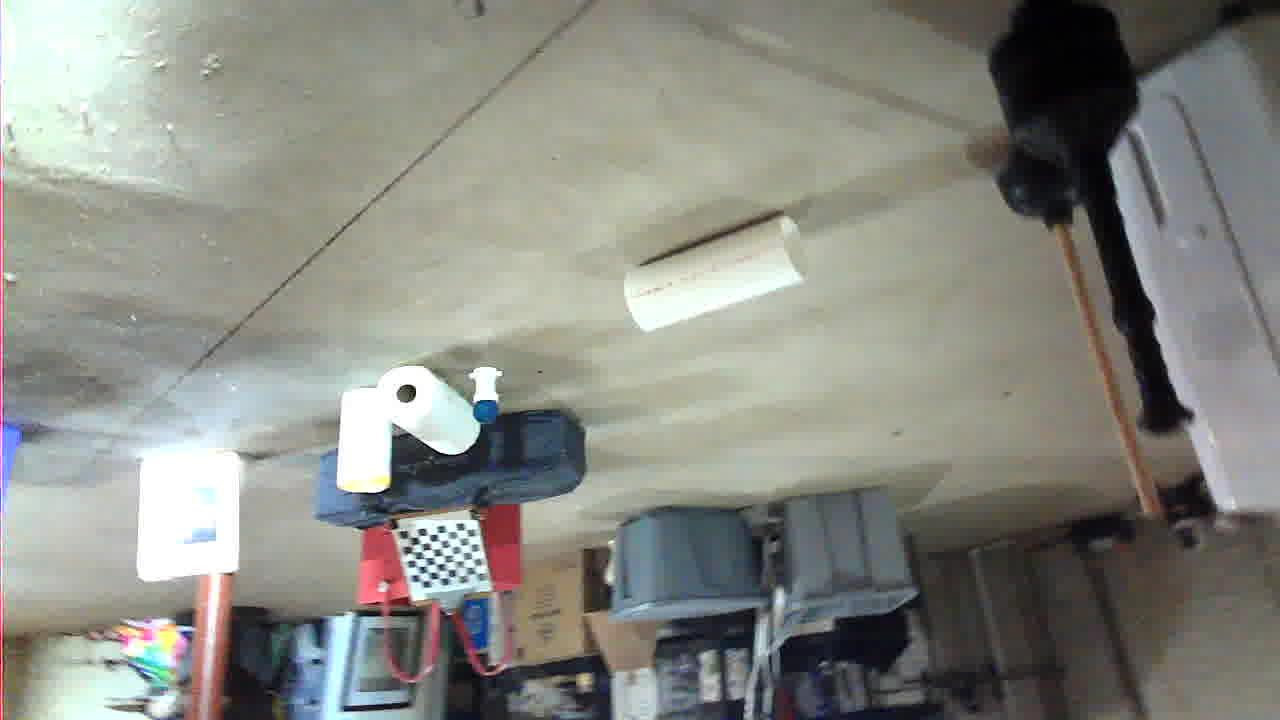coral: (473, 389, 656, 503)
